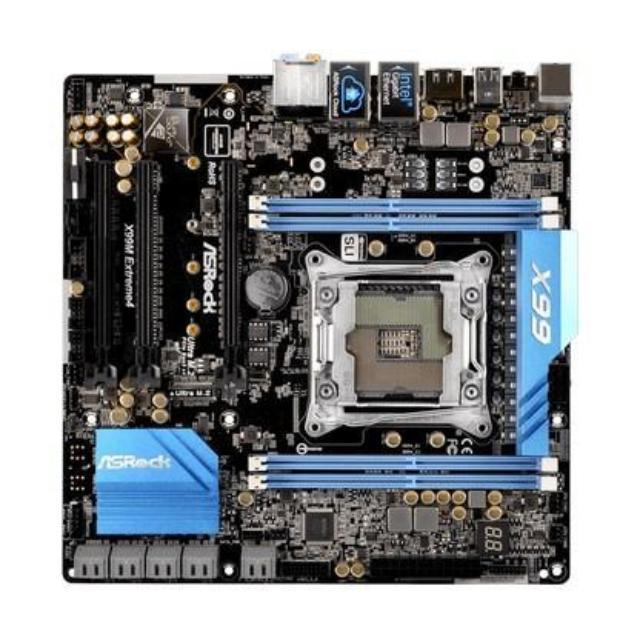Mainboard: (40, 43, 577, 597)
